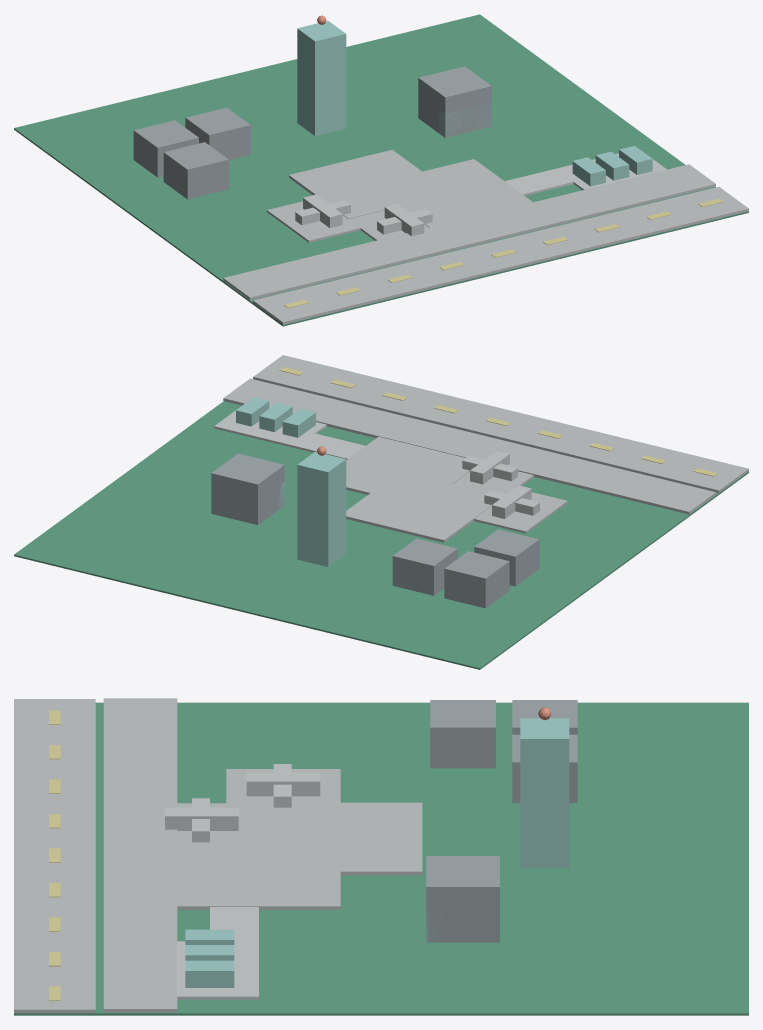
File: stage_12.glb
3 renders of one model, top to bottom at view 1: azimuth 30°, elevation 25°; view 2: azimuth 150°, elevation 25°; view 3: azimuth 270°, elevation 25°, orthographic. The views are drawn at different scales.
Visible parts, largest first — view 1: geometry_0; view 2: geometry_0; view 3: geometry_0.
Boxes of the visible parts, left/top/right/bottom form: geometry_0: left=14, top=14, right=748, bottom=326; geometry_0: left=14, top=355, right=748, bottom=669; geometry_0: left=14, top=698, right=748, bottom=1015.
Size of the model in its own units: 9 by 2.06 by 9.
